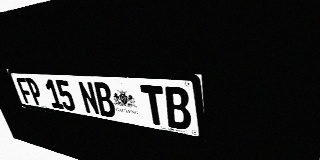1: (43, 79, 64, 109)
5: (55, 80, 77, 112)
B: (163, 86, 192, 131), (92, 82, 117, 118)
F: (15, 77, 35, 105)
N: (77, 81, 101, 116)
P: (25, 78, 45, 106)
T: (140, 85, 168, 127)
